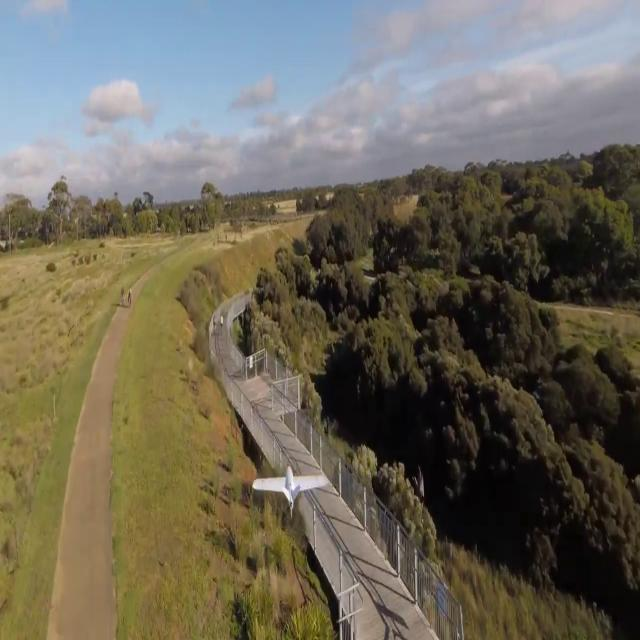iha: (282, 466, 298, 510)
